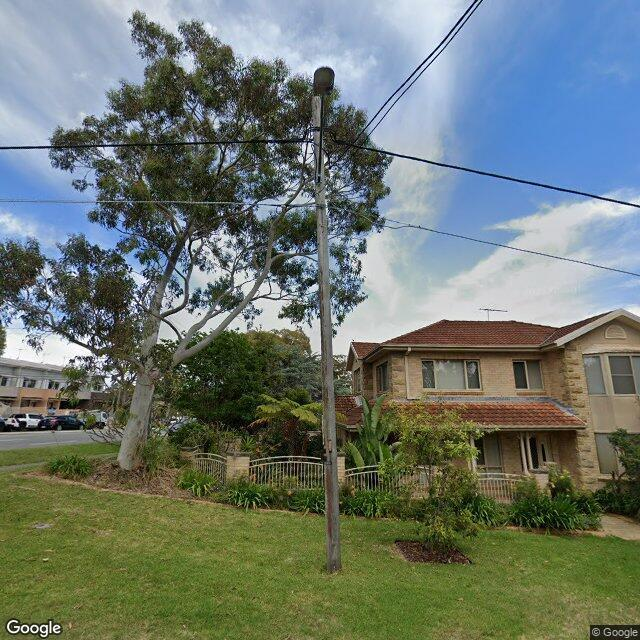streetlight: (312, 65, 336, 184)
timber-pole: (311, 96, 343, 571)
